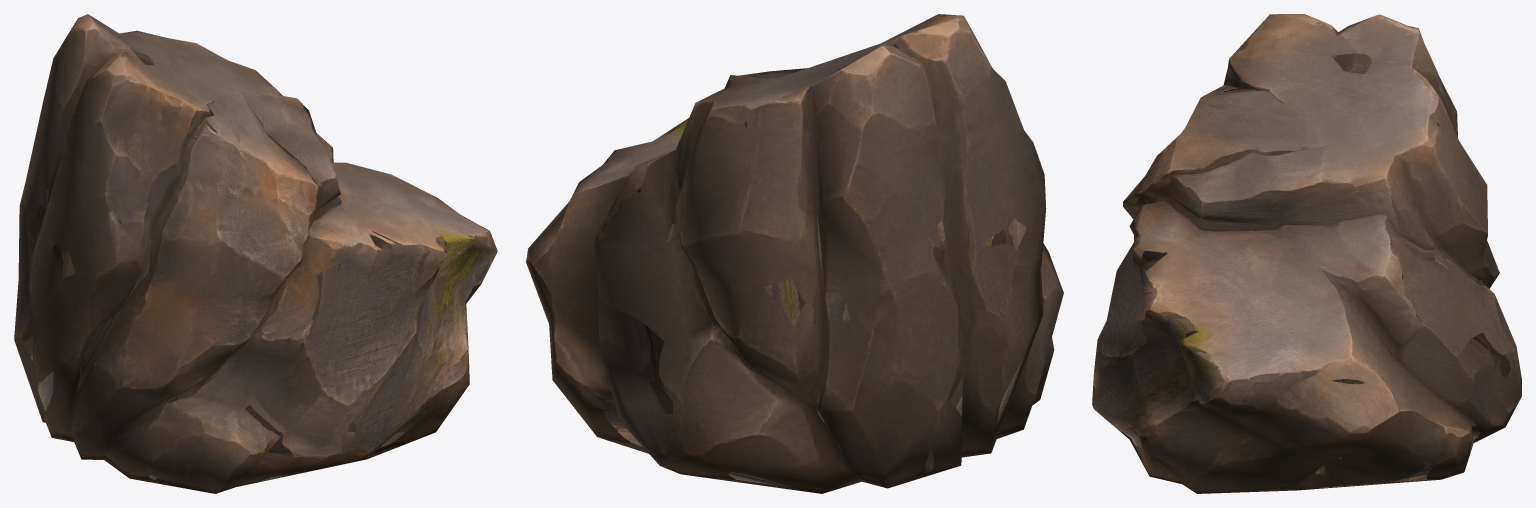
File: LL_Boulder.fbx
3 renders of one model, left to right at view 1: azimuth 30°, elevation 25°; view 2: azimuth 150°, elevation 25°; view 3: azimuth 270°, elevation 25°, orthographic. The views are drawn at different scales.
Visible parts, largest first — view 1: tripo_node_14bcec3c; view 2: tripo_node_14bcec3c; view 3: tripo_node_14bcec3c.
Boxes of the visible parts, x1,y1,x2,y2 form: tripo_node_14bcec3c: (14, 14, 497, 493); tripo_node_14bcec3c: (526, 14, 1063, 493); tripo_node_14bcec3c: (1092, 14, 1521, 493).
Size of the model in its own units: 97.89 by 90.22 by 82.94.
1 material, 1 textured.
